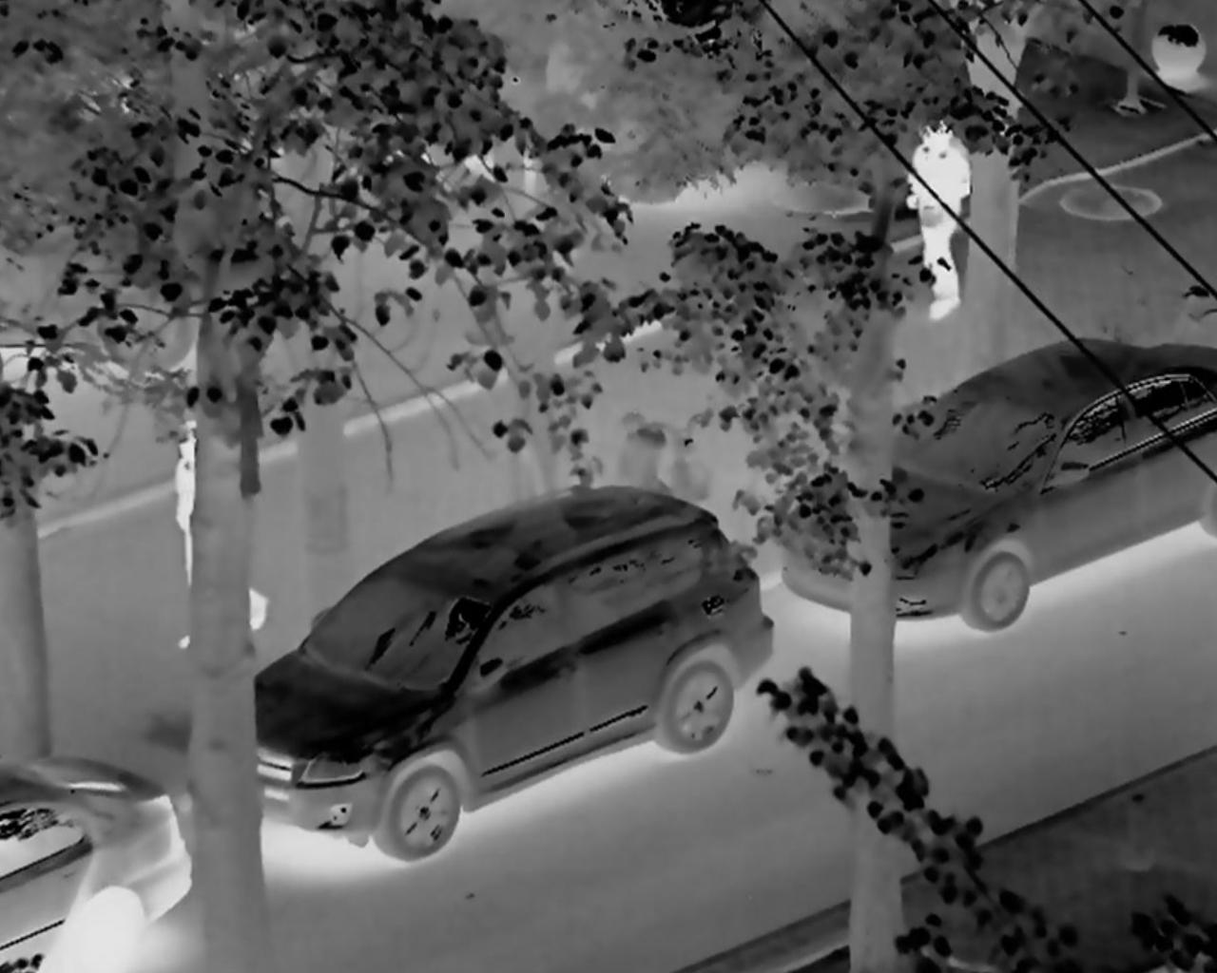person: (175, 428, 263, 641), (899, 105, 971, 331)
